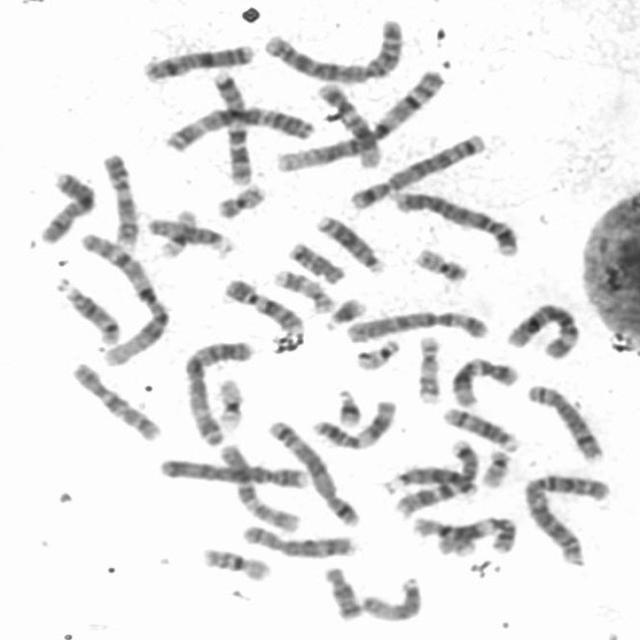A1: (271, 69, 448, 175), (76, 230, 172, 367)
A2: (259, 16, 406, 84), (520, 468, 612, 567)
A3: (180, 337, 255, 448), (160, 102, 316, 154)
B4: (390, 186, 522, 258), (155, 454, 310, 490)
B5: (346, 132, 488, 210), (264, 416, 361, 528)
C10: (66, 358, 163, 444), (216, 440, 302, 534)
C11: (307, 398, 398, 452), (435, 512, 518, 558)
C12: (313, 79, 382, 170), (448, 352, 518, 409)
C6: (343, 306, 492, 345), (504, 300, 580, 361)
C7: (391, 436, 481, 518), (208, 67, 255, 188)
C8: (522, 380, 605, 464), (237, 522, 357, 560)
C9: (220, 276, 304, 334), (99, 150, 140, 252)
D13: (312, 211, 385, 275), (380, 463, 480, 498)
D14: (52, 275, 122, 347), (439, 404, 520, 454)
D15: (144, 213, 234, 256), (358, 573, 423, 623)
E16: (408, 514, 477, 556), (199, 545, 272, 583)
E17: (271, 267, 335, 314), (412, 331, 442, 405)
E18: (284, 238, 346, 285), (320, 562, 362, 621)
F19: (155, 206, 198, 258), (212, 374, 247, 432)
F20: (411, 244, 469, 284), (214, 180, 268, 220)
G21: (320, 295, 367, 332), (332, 386, 364, 428)
G22: (351, 336, 403, 372), (477, 448, 513, 488)
X: (139, 40, 257, 83), (34, 168, 96, 246)
